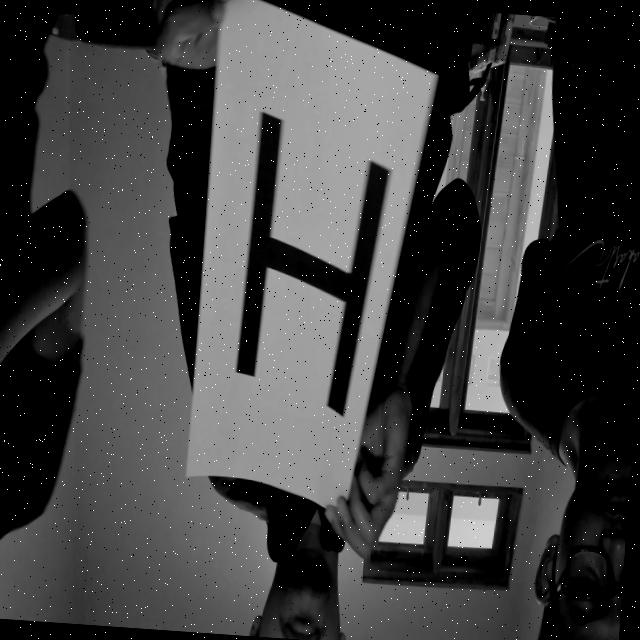h: (211, 81, 414, 436)
